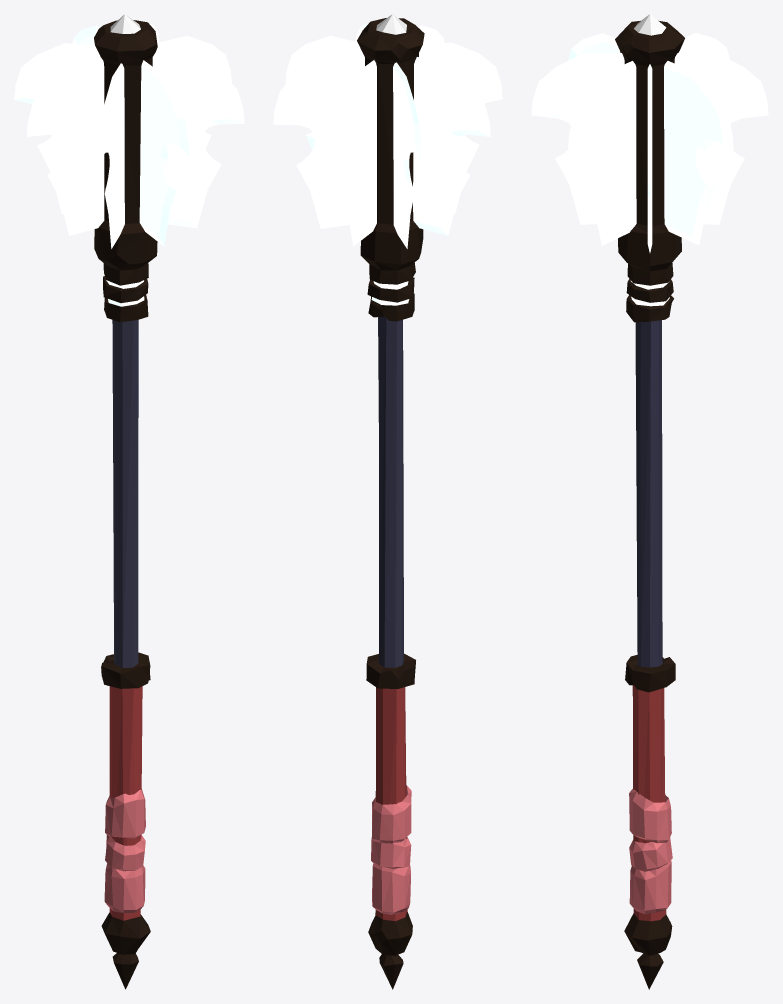
Rendered from SFFA_Weapon_Mace_Runical_003.fbx.
The picture shows the model from 3 angles, left to right: view 1: azimuth 30°, elevation 25°; view 2: azimuth 150°, elevation 25°; view 3: azimuth 270°, elevation 25°; orthographic projection.
Visible parts, largest first — view 1: SFFA_Weapon_Mace_Runical_003; view 2: SFFA_Weapon_Mace_Runical_003; view 3: SFFA_Weapon_Mace_Runical_003.
Part boxes in pixels (box(x1,y1,x2,y2)): SFFA_Weapon_Mace_Runical_003: box(14, 14, 244, 989); SFFA_Weapon_Mace_Runical_003: box(273, 14, 502, 989); SFFA_Weapon_Mace_Runical_003: box(531, 14, 768, 989).
Size of the model in its own units: 19.44 by 88.24 by 19.44.
